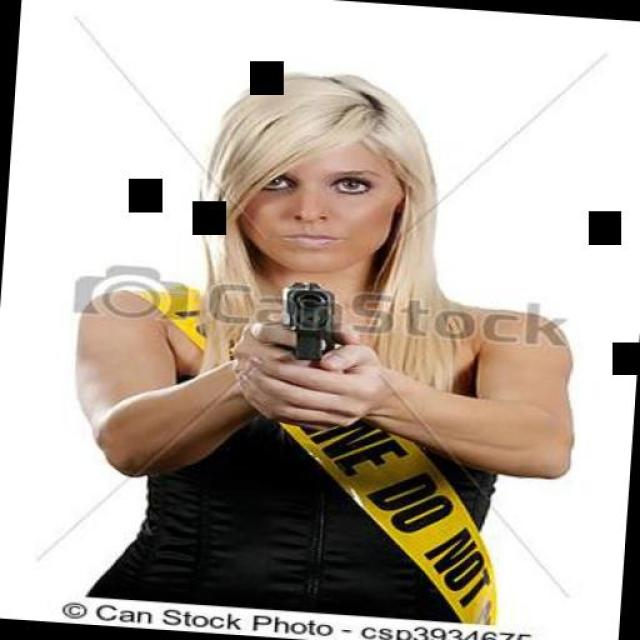gun: (275, 276, 344, 362)
